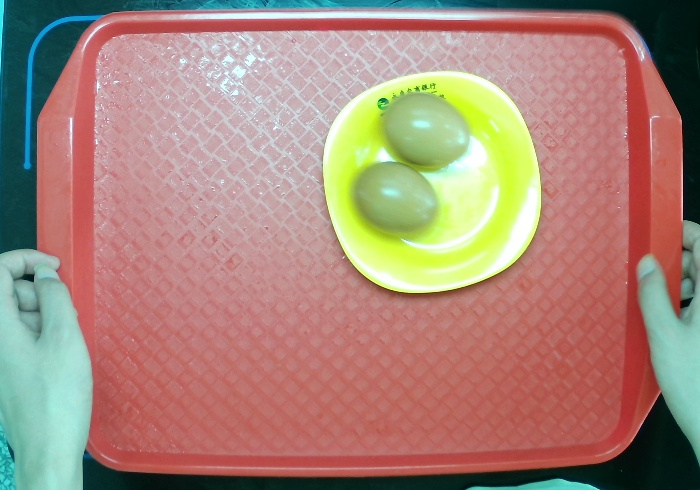YKMZ-Huang_Se_Fang_Die: (323, 67, 548, 298)
